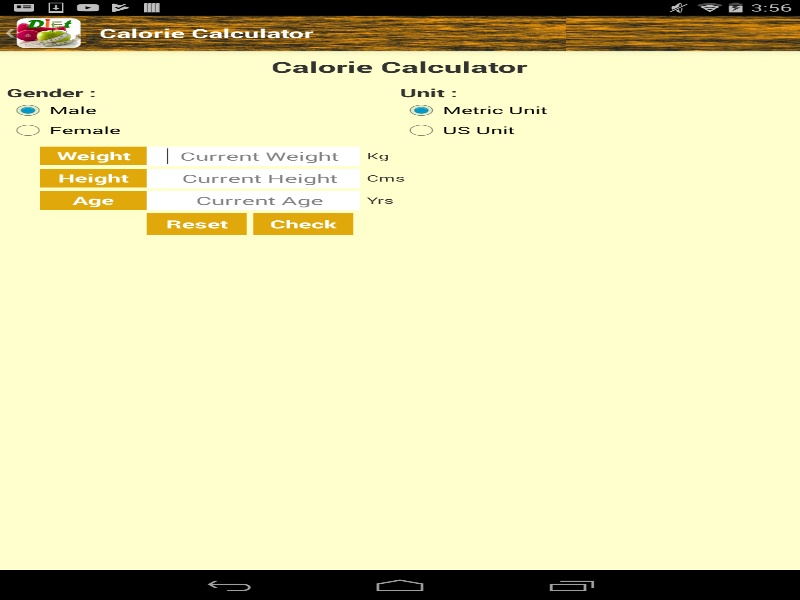Button: (146, 213, 246, 235), (253, 213, 353, 235)
Input: (146, 190, 360, 210), (146, 146, 360, 165), (146, 168, 360, 187)
